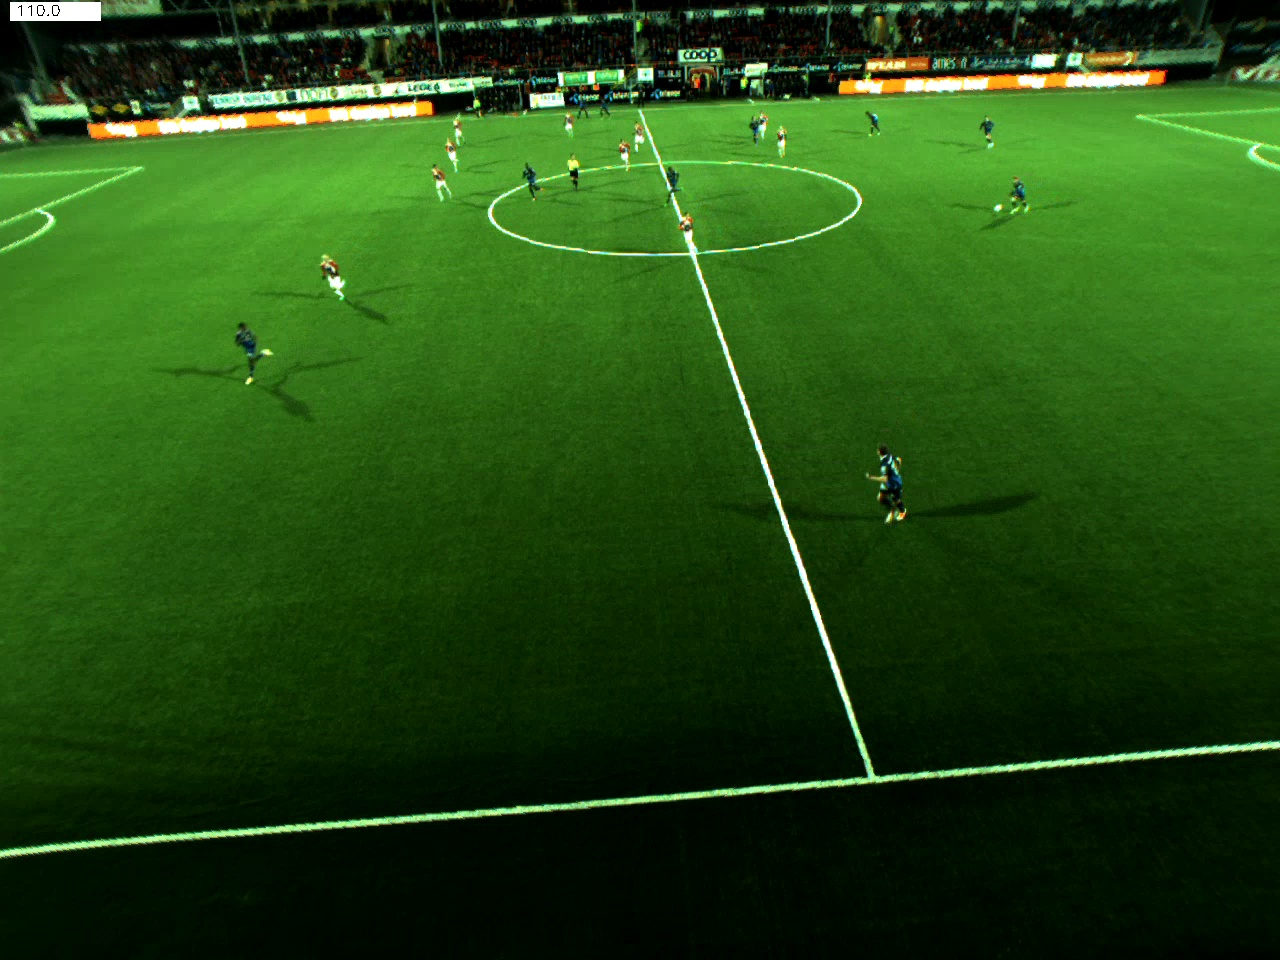blue: (870, 444, 919, 530), (233, 314, 274, 387), (660, 164, 691, 209), (1005, 177, 1035, 223), (976, 111, 1003, 151), (517, 156, 542, 200), (860, 107, 882, 136), (596, 94, 614, 120), (573, 95, 591, 121), (747, 113, 758, 143)
red: (314, 249, 348, 306), (671, 207, 705, 254), (430, 163, 457, 205), (773, 120, 793, 160), (629, 121, 651, 150), (441, 140, 463, 169), (450, 118, 469, 144), (615, 139, 632, 167), (759, 111, 767, 145)
